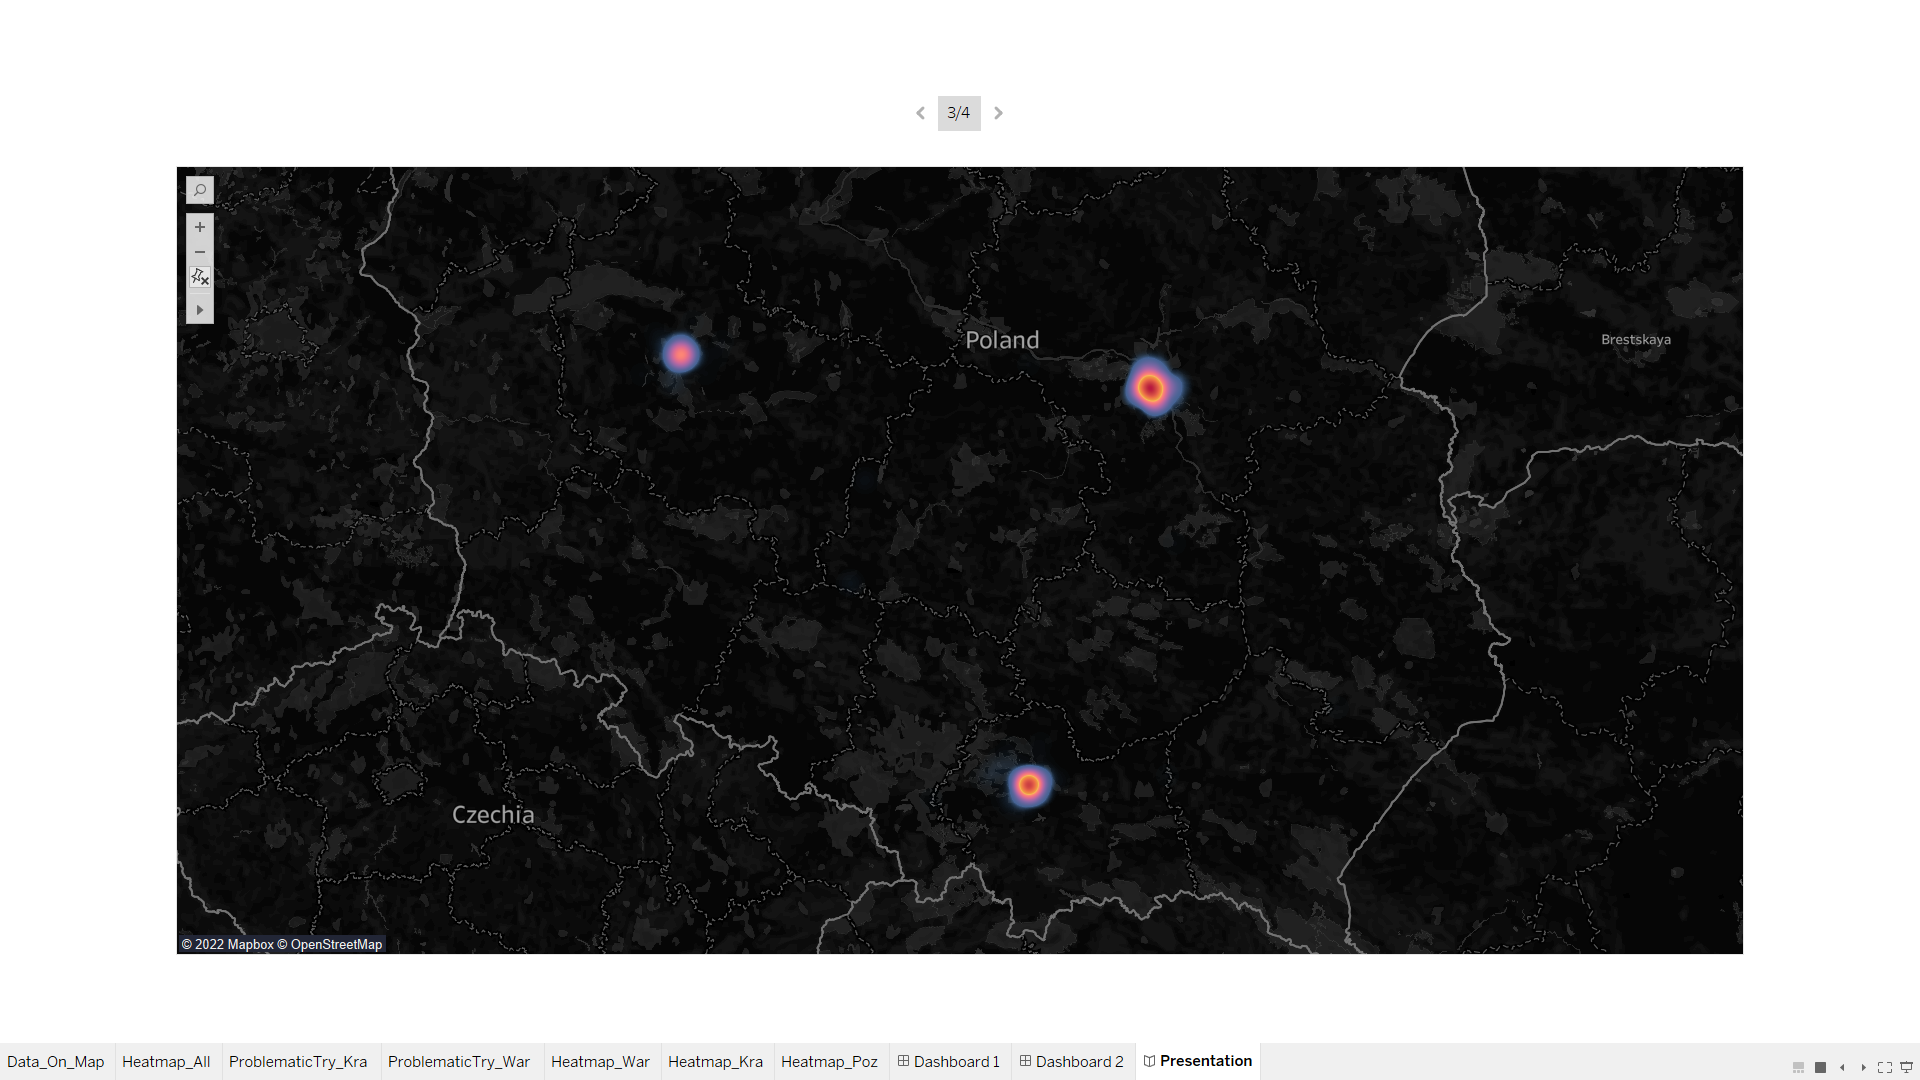

What the dashboard file says about the page in this screenshot:
{"tool":"tableau","page":{"name":"Dashboard 2","canvas":[1000,800],"ordinal":1},"visuals":[{"type":"worksheet","title":"Heatmap_Poz","mark":"Heatmap","rows":["latitude"],"cols":["longitude"],"box":[8,8,492,392]},{"type":"worksheet","title":"Heatmap_War","mark":"Heatmap","rows":["latitude"],"cols":["longitude"],"box":[500,8,492,392]},{"type":"worksheet","title":"Heatmap_Kra","mark":"Heatmap","rows":["latitude"],"cols":["longitude"],"box":[8,400,984,392]}]}

Visuals, with their boxes on the page's 1000x800 design canvas (x1, y1, x2, y2). These are canvas units, not pixel positions in the 1920x1080 screenshot, which may show the page scaled, cropped or inside an application window:
"Heatmap_Poz" worksheet (Heatmap marks): bbox(8, 8, 500, 400)
"Heatmap_War" worksheet (Heatmap marks): bbox(500, 8, 992, 400)
"Heatmap_Kra" worksheet (Heatmap marks): bbox(8, 400, 992, 792)
